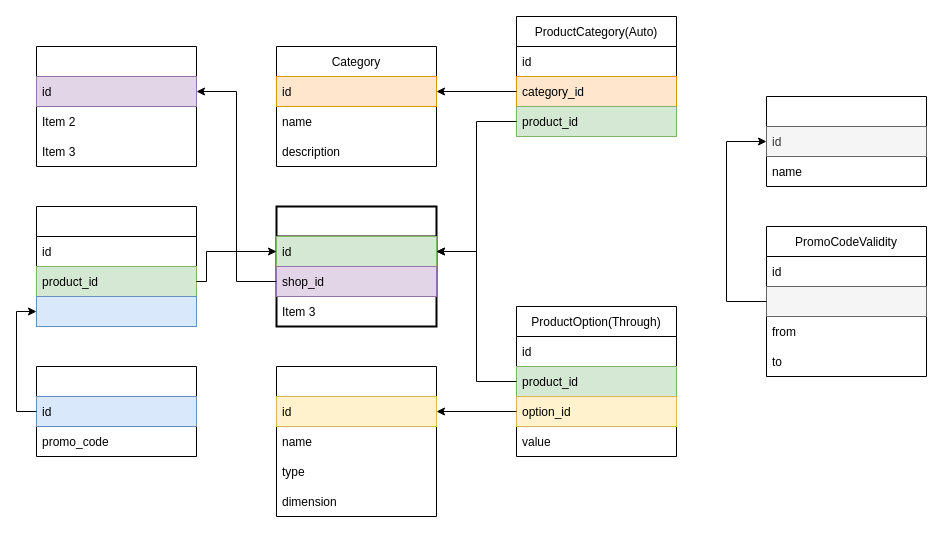
Some shapes in this 943 by 533 pixel diagram are drawn without their labels. The box of each missing label's shape, as (x1, y1, x2, y2) in pixels:
Option: (276, 366, 436, 516)
Order: (36, 366, 196, 456)
order_id: (36, 296, 196, 326)
Product: (275, 205, 437, 327)
ProductOrder(Auto): (36, 206, 196, 326)
PromoCode: (766, 96, 926, 186)
promocode_id: (766, 286, 926, 316)
Shop: (36, 46, 196, 166)
